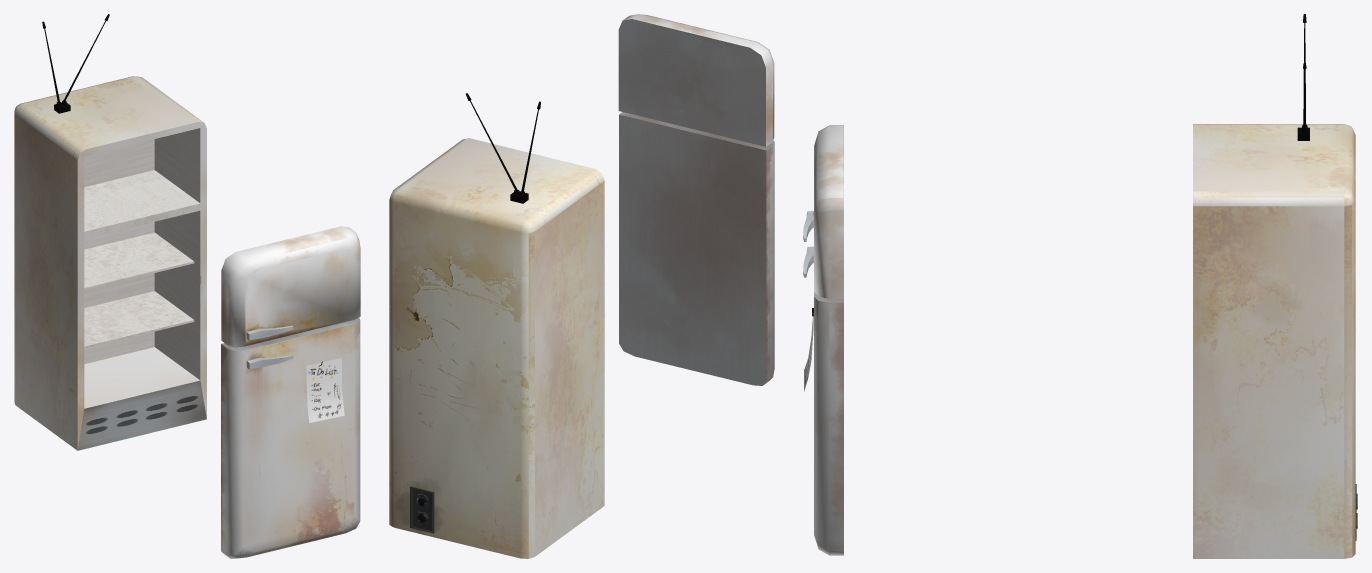
Rendered from fridge.fbx.
The picture shows the model from 3 angles, left to right: view 1: azimuth 30°, elevation 25°; view 2: azimuth 150°, elevation 25°; view 3: azimuth 270°, elevation 25°; orthographic projection. The views are drawn at different scales.
Parts seen in each view (by area): view 1: base, Door lower, door upper, Plane.001, Cube; view 2: base, Door lower, door upper, Cube; view 3: base, Door lower, door upper.
Part boxes in pixels (x1=…): base: x1=14, y1=76, x2=206, y2=450; Door lower: x1=221, y1=317, x2=360, y2=558; door upper: x1=221, y1=226, x2=360, y2=347; Plane.001: x1=306, y1=358, x2=344, y2=422; Cube: x1=42, y1=14, x2=109, y2=113; base: x1=389, y1=138, x2=604, y2=558; Door lower: x1=619, y1=112, x2=774, y2=385; door upper: x1=618, y1=14, x2=774, y2=146; Cube: x1=466, y1=93, x2=540, y2=203; base: x1=1193, y1=124, x2=1357, y2=558; Door lower: x1=803, y1=246, x2=843, y2=555; door upper: x1=803, y1=125, x2=843, y2=298.
Size of the model in its own units: 232 by 659 by 696.
Materials: 6 (4 with a texture image).
